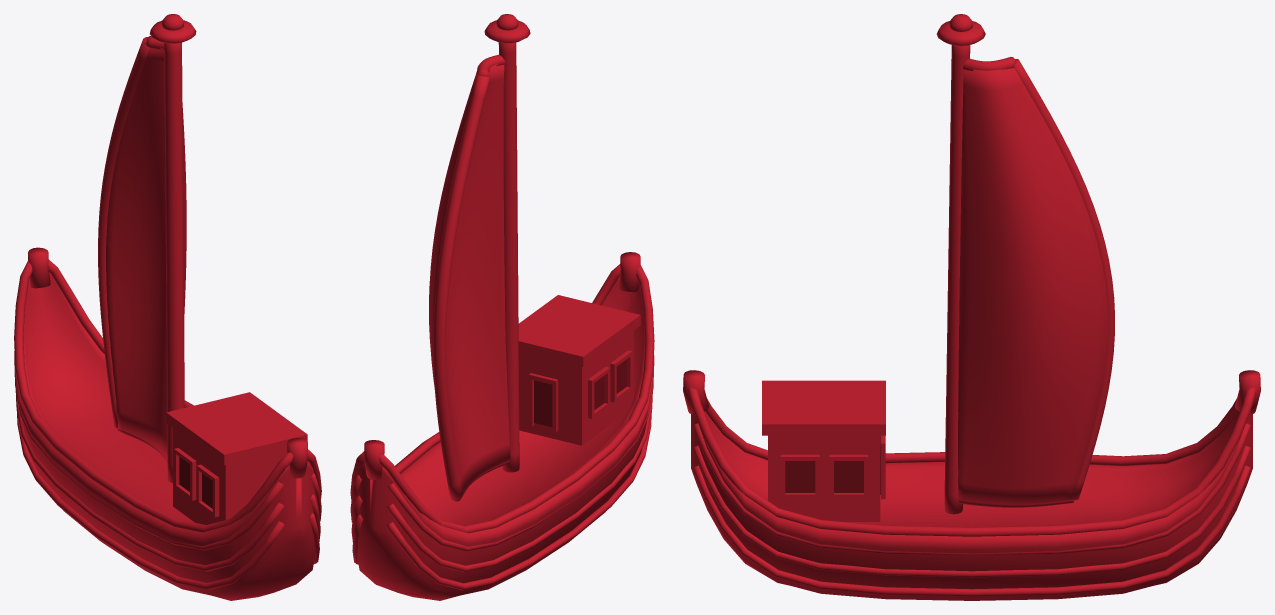
The model's file is ship-red.fbx.
3 views of the same model, side by side, from view 1: azimuth 30°, elevation 25°; view 2: azimuth 150°, elevation 25°; view 3: azimuth 270°, elevation 25° (orthographic). The views are drawn at different scales.
Parts seen in each view (by area): view 1: Ship_Plastic_Sculpt, Ship_Window_Recesses; view 2: Ship_Plastic_Sculpt, Ship_Window_Recesses; view 3: Ship_Plastic_Sculpt, Ship_Window_Recesses.
Boxes of the visible parts, <box> form: Ship_Plastic_Sculpt: <box>14,14,321,600</box>; Ship_Window_Recesses: <box>179,457,212,508</box>; Ship_Plastic_Sculpt: <box>350,14,654,600</box>; Ship_Window_Recesses: <box>534,359,626,427</box>; Ship_Plastic_Sculpt: <box>683,14,1260,600</box>; Ship_Window_Recesses: <box>785,435,880,494</box>.
Bounding box in the file's own units: 0.009 × 0.028 × 0.026.
